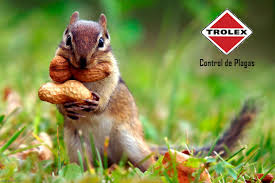Ardilla: (41, 8, 158, 162)
